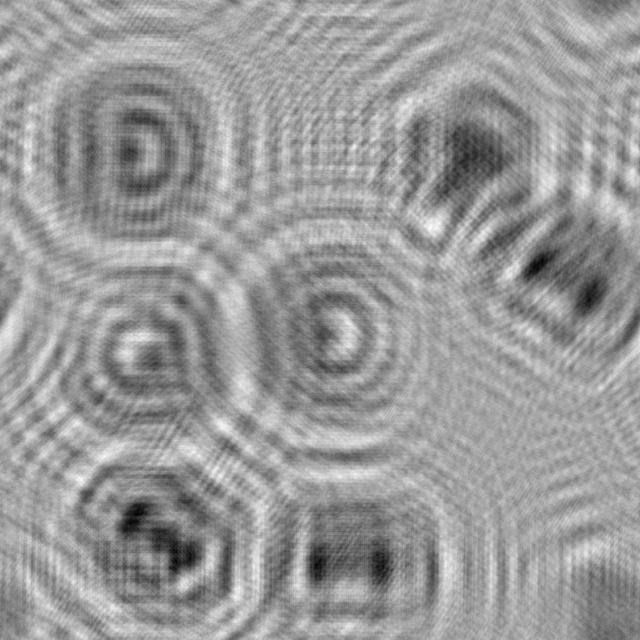A: (337, 16, 599, 279)
B: (0, 405, 280, 640)
C: (179, 181, 469, 474), (0, 222, 274, 492)
D: (0, 0, 259, 283)
E: (420, 137, 640, 404), (210, 443, 480, 640)
